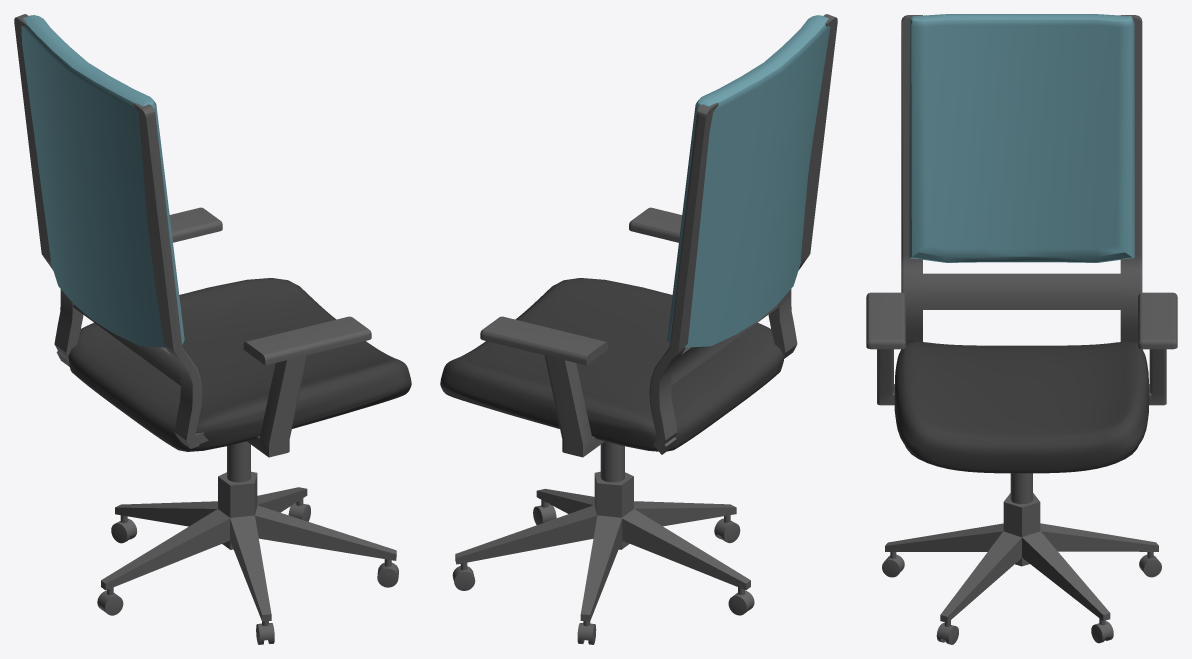
Rendered from officeChair.fbx.
3 renders of one model, left to right at view 1: azimuth 30°, elevation 25°; view 2: azimuth 150°, elevation 25°; view 3: azimuth 270°, elevation 25°, orthographic. The views are drawn at different scales.
Parts seen in each view (by area): view 1: pCube189; view 2: pCube189; view 3: pCube189.
Boxes of the visible parts, box(x1,y1,x2,y2) form: pCube189: box(14, 14, 411, 644); pCube189: box(440, 14, 837, 644); pCube189: box(866, 14, 1177, 644).
Bounding box in the file's own units: 5.59 × 10.36 × 5.72.
